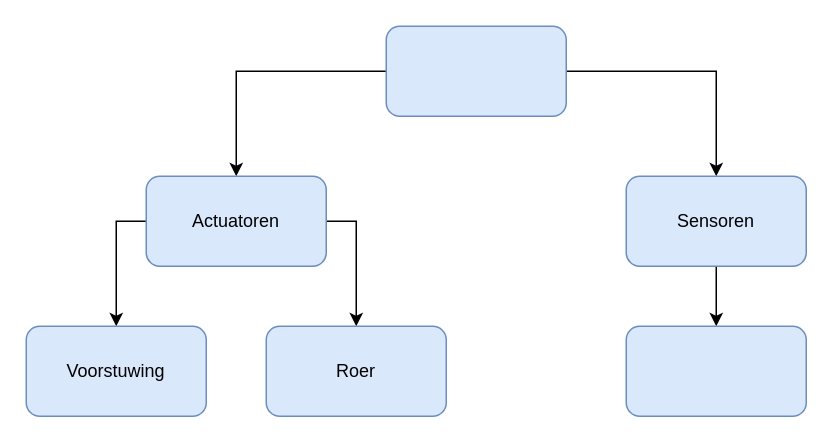
Some shapes in this 833 by 443 pixel diagram are drawn without their labels. The shapes that lost their labels are listed below. From the top down, each one's centre as x and y in pixels, then its label:
At point 475,70: "Hardware Componenten".
At point 715,370: "GPS".
